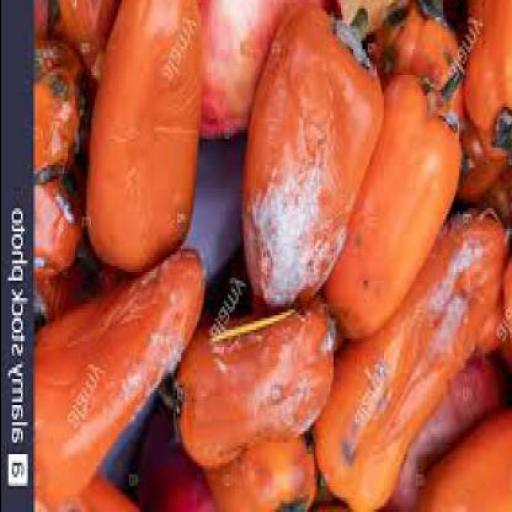biodegradable: (314, 208, 506, 511), (240, 3, 390, 316), (32, 251, 206, 511), (328, 63, 466, 339), (88, 3, 209, 284), (164, 302, 336, 472), (201, 3, 342, 139), (388, 358, 504, 511), (364, 2, 466, 133), (134, 388, 220, 510), (414, 405, 510, 512), (36, 164, 110, 292), (207, 442, 320, 511), (36, 44, 88, 179), (469, 2, 511, 164), (36, 246, 100, 330), (54, 2, 118, 82), (459, 112, 511, 210), (332, 3, 404, 44), (65, 480, 143, 511), (490, 164, 511, 226), (34, 3, 57, 57), (504, 236, 510, 377)
